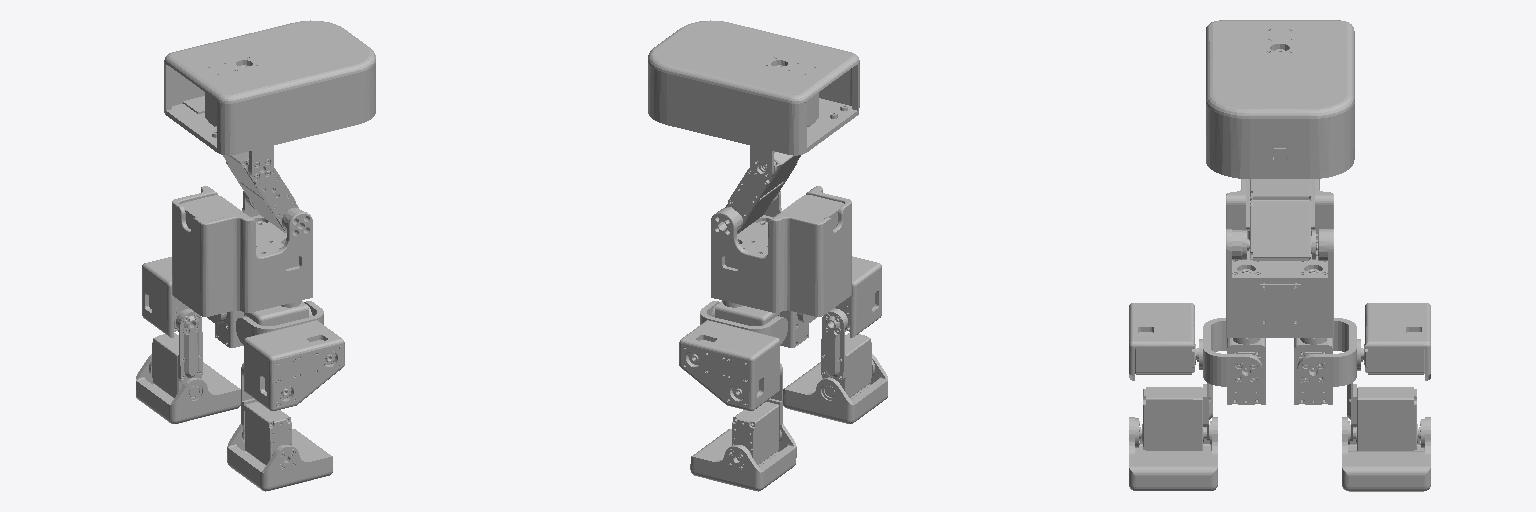
The robot description file, URDF, robot "Microduck-整体.SLDASM":
<?xml version="1.0" encoding="utf-8"?>
<!-- This URDF was automatically created by SolidWorks to URDF Exporter! Originally created by Stephen Brawner (brawner@gmail.com) 
     Commit Version: 1.6.0-4-g7f85cfe  Build Version: 1.6.7995.38578
     For more information, please see http://wiki.ros.org/sw_urdf_exporter -->
<robot
  name="Microduck-整体.SLDASM">

  <mujoco>
    <compiler meshdir="../meshes_simplified/" balabceinertia="ture" discardvisual="false"/>
  </mujoco>

  <link
    name="body_link">
    <inertial>
      <origin
        xyz="0.00732910959509056 -0.000130427771084005 0.0334241457869109"
        rpy="0 0 0" />
      <mass
        value="0.314901605487667" />
      <inertia
        ixx="0.00021781273452738"
        ixy="-7.27002937994262E-07"
        ixz="5.66414229829655E-06"
        iyy="0.000248748994318483"
        iyz="-5.63145662486227E-07"
        izz="0.000223806765988912" />
    </inertial>
    <visual>
      <origin
        xyz="0 0 0"
        rpy="0 0 0" />
      <geometry>
        <mesh
          filename="body_link.STL" />
      </geometry>
      <material
        name="">
        <color
          rgba="0.752941176470588 0.752941176470588 0.752941176470588 1" />
      </material>
    </visual>
    <collision>
      <origin
        xyz="0 0 0"
        rpy="0 0 0" />
      <geometry>
        <mesh
          filename="body_link.STL" />
      </geometry>
    </collision>
  </link>
  <link
    name="neck_Link_01">
    <inertial>
      <origin
        xyz="-0.0149977956510755 -0.0260358125234963 0.0246580464027641"
        rpy="0 0 0" />
      <mass
        value="0.146229057586963" />
      <inertia
        ixx="3.1394462577454E-05"
        ixy="-5.44041617814629E-06"
        ixz="3.97899160121065E-21"
        iyy="2.51123696305632E-05"
        iyz="1.56042532536992E-20"
        izz="2.16128315215325E-05" />
    </inertial>
    <visual>
      <origin
        xyz="0 0 0"
        rpy="0 0 0" />
      <geometry>
        <mesh
          filename="neck_Link_01.STL" />
      </geometry>
      <material
        name="">
        <color
          rgba="0.752941176470588 0.752941176470588 0.752941176470588 1" />
      </material>
    </visual>
    <collision>
      <origin
        xyz="0 0 0"
        rpy="0 0 0" />
      <geometry>
        <mesh
          filename="neck_Link_01.STL" />
      </geometry>
    </collision>
  </link>
  <joint
    name="neck_joint_01"
    type="continuous">
    <origin
      xyz="0.0474780123111315 -0.0255000000000004 0.0639999999999869"
      rpy="-1.5707963267949 0 0" />
    <parent
      link="body_link" />
    <child
      link="neck_Link_01" />
    <axis
      xyz="0 0 1" />
  </joint>
  <link
    name="neck_Link_02">
    <inertial>
      <origin
        xyz="0.00688369448052067 0.0121629155700672 -0.0257122043674353"
        rpy="0 0 0" />
      <mass
        value="0.0116871590091233" />
      <inertia
        ixx="4.6148079746707E-06"
        ixy="-1.9203735909344E-07"
        ixz="-9.18786054915222E-09"
        iyy="4.39306233273658E-06"
        iyz="-1.59138412842083E-08"
        izz="1.06780030162175E-06" />
    </inertial>
    <visual>
      <origin
        xyz="0 0 0"
        rpy="0 0 0" />
      <geometry>
        <mesh
          filename="neck_Link_02.STL" />
      </geometry>
      <material
        name="">
        <color
          rgba="0.752941176470588 0.752941176470588 0.752941176470588 1" />
      </material>
    </visual>
    <collision>
      <origin
        xyz="0 0 0"
        rpy="0 0 0" />
      <geometry>
        <mesh
          filename="neck_Link_02.STL" />
      </geometry>
    </collision>
  </link>
  <joint
    name="neck_joint_02"
    type="continuous">
    <origin
      xyz="-0.0305098890445223 -0.0528449392689606 0"
      rpy="-3.14159265358973 0 -0.5235987755983" />
    <parent
      link="neck_Link_01" />
    <child
      link="neck_Link_02" />
    <axis
      xyz="0 0 -1" />
  </joint>
  <link
    name="neck_Link_03">
    <inertial>
      <origin
        xyz="0.0259952121852963 0.00017585705696721 0.0276164001327309"
        rpy="0 0 0" />
      <mass
        value="0.244320350139549" />
      <inertia
        ixx="0.000282085835026612"
        ixy="-1.67869570748146E-07"
        ixz="1.00525811081606E-05"
        iyy="0.000456772295403287"
        iyz="1.32458984472537E-08"
        izz="0.000671447981205499" />
    </inertial>
    <visual>
      <origin
        xyz="0 0 0"
        rpy="0 0 0" />
      <geometry>
        <mesh
          filename="neck_Link_03.STL" />
      </geometry>
      <material
        name="">
        <color
          rgba="0.752941176470588 0.752941176470588 0.752941176470588 1" />
      </material>
    </visual>
    <collision>
      <origin
        xyz="0 0 0"
        rpy="0 0 0" />
      <geometry>
        <mesh
          filename="neck_Link_03.STL" />
      </geometry>
    </collision>
  </link>
  <joint
    name="neck_joint_03"
    type="continuous">
    <origin
      xyz="0.0140000000000013 0.0242487113059622 -0.0255000000000014"
      rpy="-1.57079632679495 0 -0.523598775598301" />
    <parent
      link="neck_Link_02" />
    <child
      link="neck_Link_03" />
    <axis
      xyz="0 0 1" />
  </joint>
  <link
    name="rleg_link_01">
    <inertial>
      <origin
        xyz="-0.0114240775613978 5.83207559448837E-05 0.023812545433892"
        rpy="0 0 0" />
      <mass
        value="0.0541547562449216" />
      <inertia
        ixx="1.0441340028421E-05"
        ixy="1.8837501456904E-10"
        ixz="4.30633074562675E-07"
        iyy="1.53682355710421E-05"
        iyz="-5.94967043529798E-11"
        izz="1.03769943237818E-05" />
    </inertial>
    <visual>
      <origin
        xyz="0 0 0"
        rpy="0 0 0" />
      <geometry>
        <mesh
          filename="rleg_link_01.STL" />
      </geometry>
      <material
        name="">
        <color
          rgba="0.752941176470588 0.752941176470588 0.752941176470588 1" />
      </material>
    </visual>
    <collision>
      <origin
        xyz="0 0 0"
        rpy="0 0 0" />
      <geometry>
        <mesh
          filename="rleg_link_01.STL" />
      </geometry>
    </collision>
  </link>
  <joint
    name="rleg_joint_01"
    type="continuous">
    <origin
      xyz="0.0447280777211061 -0.0225677614091137 -0.00499999999999984"
      rpy="3.14159265358979 0 0" />
    <parent
      link="body_link" />
    <child
      link="rleg_link_01" />
    <axis
      xyz="0 0 -1" />
  </joint>
  <link
    name="rleg_link_02">
    <inertial>
      <origin
        xyz="0.0141108938252191 -0.000217918216466703 -0.0213001531059313"
        rpy="0 0 0" />
      <mass
        value="0.0147160768790231" />
      <inertia
        ixx="6.81615343207832E-06"
        ixy="3.91287279953076E-22"
        ixz="-3.80049283595342E-08"
        iyy="7.79887544656572E-06"
        iyz="6.45200877791362E-22"
        izz="1.93986151864204E-06" />
    </inertial>
    <visual>
      <origin
        xyz="0 0 0"
        rpy="0 0 0" />
      <geometry>
        <mesh
          filename="rleg_link_02.STL" />
      </geometry>
      <material
        name="">
        <color
          rgba="0.752941176470588 0.752941176470588 0.752941176470588 1" />
      </material>
    </visual>
    <collision>
      <origin
        xyz="0 0 0"
        rpy="0 0 0" />
      <geometry>
        <mesh
          filename="rleg_link_02.STL" />
      </geometry>
    </collision>
  </link>
  <joint
    name="rleg_joint_02"
    type="continuous">
    <origin
      xyz="0.0155 0 0.0167502075018856"
      rpy="1.57079632679486 0 1.5707963267949" />
    <parent
      link="rleg_link_01" />
    <child
      link="rleg_link_02" />
    <axis
      xyz="0 0 -1" />
  </joint>
  <link
    name="rleg_link_03">
    <inertial>
      <origin
        xyz="-0.0259230037924022 -0.00389527144591324 0.0258623268388182"
        rpy="0 0 0" />
      <mass
        value="0.0960609247023977" />
      <inertia
        ixx="2.40313301670692E-05"
        ixy="-2.65156338355956E-06"
        ixz="-1.05088110060624E-06"
        iyy="2.97257786696575E-05"
        iyz="1.15664921811555E-06"
        izz="2.60483247761384E-05" />
    </inertial>
    <visual>
      <origin
        xyz="0 0 0"
        rpy="0 0 0" />
      <geometry>
        <mesh
          filename="rleg_link_03.STL" />
      </geometry>
      <material
        name="">
        <color
          rgba="0.752941176470588 0.752941176470588 0.752941176470588 1" />
      </material>
    </visual>
    <collision>
      <origin
        xyz="0 0 0"
        rpy="0 0 0" />
      <geometry>
        <mesh
          filename="rleg_link_03.STL" />
      </geometry>
    </collision>
  </link>
  <joint
    name="rleg_joint_03"
    type="continuous">
    <origin
      xyz="0.0305 0 -0.024"
      rpy="-1.5708 -1.5623 -1.5708" />
    <parent
      link="rleg_link_02" />
    <child
      link="rleg_link_03" />
    <axis
      xyz="0 0 -1" />
  </joint>
  <link
    name="rleg_link_04">
    <inertial>
      <origin
        xyz="-3.71973548417455E-06 0.0420651975868615 -0.0168539931643489"
        rpy="0 0 0" />
      <mass
        value="0.0423564434333844" />
      <inertia
        ixx="1.00960385386999E-05"
        ixy="2.67342419226412E-10"
        ixz="-4.16945869852409E-11"
        iyy="5.59101835570727E-06"
        iyz="-6.28123220445709E-09"
        izz="6.91050521021012E-06" />
    </inertial>
    <visual>
      <origin
        xyz="0 0 0"
        rpy="0 0 0" />
      <geometry>
        <mesh
          filename="rleg_link_04.STL" />
      </geometry>
      <material
        name="">
        <color
          rgba="0.752941176470588 0.752941176470588 0.752941176470588 1" />
      </material>
    </visual>
    <collision>
      <origin
        xyz="0 0 0"
        rpy="0 0 0" />
      <geometry>
        <mesh
          filename="rleg_link_04.STL" />
      </geometry>
    </collision>
  </link>
  <joint
    name="rleg_joint_04"
    type="continuous">
    <origin
      xyz="-0.039812 -0.019749 -0.0015"
      rpy="-3.1416 0 0" />
    <parent
      link="rleg_link_03" />
    <child
      link="rleg_link_04" />
    <axis
      xyz="0 0 -1" />
  </joint>
  <link
    name="rleg_link_05">
    <inertial>
      <origin
        xyz="0.0118415375769229 -0.0154256532584371 -0.024921504178261"
        rpy="0 0 0" />
      <mass
        value="0.0622742957219456" />
      <inertia
        ixx="2.12254478729179E-05"
        ixy="-1.2310366428664E-07"
        ixz="1.22667797329863E-07"
        iyy="4.07643151674969E-05"
        iyz="-1.59923610108261E-07"
        izz="2.37198952343755E-05" />
    </inertial>
    <visual>
      <origin
        xyz="0 0 0"
        rpy="0 0 0" />
      <geometry>
        <mesh
          filename="rleg_link_05.STL" />
      </geometry>
      <material
        name="">
        <color
          rgba="0.752941176470588 0.752941176470588 0.752941176470588 1" />
      </material>
    </visual>
    <collision>
      <origin
        xyz="0 0 0"
        rpy="0 0 0" />
      <geometry>
        <mesh
          filename="rleg_link_05.STL" />
      </geometry>
    </collision>
  </link>
  <joint
    name="rleg_joint_05"
    type="continuous">
    <origin
      xyz="0 0.0570000044121551 -0.0459973102079287"
      rpy="3.14159265358979 0 2.93495541937787E-05" />
    <parent
      link="rleg_link_04" />
    <child
      link="rleg_link_05" />
    <axis
      xyz="0 0 -1" />
  </joint>
  <link
    name="lleg_link_01">
    <inertial>
      <origin
        xyz="-0.0114283073722073 5.40937233792921E-05 0.0238125458329617"
        rpy="0 0 0" />
      <mass
        value="0.0541547562449216" />
      <inertia
        ixx="1.0441340028421E-05"
        ixy="1.88375014567177E-10"
        ixz="4.30633074562671E-07"
        iyy="1.53682355710421E-05"
        iyz="-5.94967043552705E-11"
        izz="1.03769943237818E-05" />
    </inertial>
    <visual>
      <origin
        xyz="0 0 0"
        rpy="0 0 0" />
      <geometry>
        <mesh
          filename="lleg_link_01.STL" />
      </geometry>
      <material
        name="">
        <color
          rgba="0.752941176470588 0.752941176470588 0.752941176470588 1" />
      </material>
    </visual>
    <collision>
      <origin
        xyz="0 0 0"
        rpy="0 0 0" />
      <geometry>
        <mesh
          filename="lleg_link_01.STL" />
      </geometry>
    </collision>
  </link>
  <joint
    name="lleg_joint_01"
    type="continuous">
    <origin
      xyz="0.0447277738361365 0.022499776057083 -0.005"
      rpy="3.14159265358979 0 0" />
    <parent
      link="body_link" />
    <child
      link="lleg_link_01" />
    <axis
      xyz="0 0 -1" />
  </joint>
  <link
    name="lleg_link_02">
    <inertial>
      <origin
        xyz="0.0141108938252154 0.000217918216467675 -0.0213001531059311"
        rpy="0 0 0" />
      <mass
        value="0.0147160768790231" />
      <inertia
        ixx="6.81615343207832E-06"
        ixy="3.30729140070234E-22"
        ixz="-3.80049283595368E-08"
        iyy="7.79887544656572E-06"
        iyz="1.32514334130995E-21"
        izz="1.93986151864203E-06" />
    </inertial>
    <visual>
      <origin
        xyz="0 0 0"
        rpy="0 0 0" />
      <geometry>
        <mesh
          filename="lleg_link_02.STL" />
      </geometry>
      <material
        name="">
        <color
          rgba="0.752941176470588 0.752941176470588 0.752941176470588 1" />
      </material>
    </visual>
    <collision>
      <origin
        xyz="0 0 0"
        rpy="0 0 0" />
      <geometry>
        <mesh
          filename="lleg_link_02.STL" />
      </geometry>
    </collision>
  </link>
  <joint
    name="lleg_joint_02"
    type="continuous">
    <origin
      xyz="0.0154999999999999 0 0.0167502172306216"
      rpy="-1.57079632679486 0 -1.5707963267949" />
    <parent
      link="lleg_link_01" />
    <child
      link="lleg_link_02" />
    <axis
      xyz="0 0 -1" />
  </joint>
  <link
    name="lleg_link_03">
    <inertial>
      <origin
        xyz="-0.0258793421119631 0.00415471320906954 0.0258665421580586"
        rpy="0 0 0" />
      <mass
        value="0.0960973384094042" />
      <inertia
        ixx="2.40606935828736E-05"
        ixy="2.69125115319012E-06"
        ixz="-1.05443135451405E-06"
        iyy="2.96987142052844E-05"
        iyz="-1.14664512374427E-06"
        izz="2.60479845475255E-05" />
    </inertial>
    <visual>
      <origin
        xyz="0 0 0"
        rpy="0 0 0" />
      <geometry>
        <mesh
          filename="lleg_link_03.STL" />
      </geometry>
      <material
        name="">
        <color
          rgba="0.752941176470588 0.752941176470588 0.752941176470588 1" />
      </material>
    </visual>
    <collision>
      <origin
        xyz="0 0 0"
        rpy="0 0 0" />
      <geometry>
        <mesh
          filename="lleg_link_03.STL" />
      </geometry>
    </collision>
  </link>
  <joint
    name="lleg_joint_03"
    type="continuous">
    <origin
      xyz="0.0305 0 -0.024"
      rpy="-1.5708 -1.5708 -1.5708" />
    <parent
      link="lleg_link_02" />
    <child
      link="lleg_link_03" />
    <axis
      xyz="0 0 -1" />
  </joint>
  <link
    name="lleg_link_04">
    <inertial>
      <origin
        xyz="7.81938608435812E-07 -0.042065197216223 -0.0168541342322532"
        rpy="0 0 0" />
      <mass
        value="0.0423564434333727" />
      <inertia
        ixx="1.00960385540528E-05"
        ixy="-4.79963258031457E-11"
        ixz="4.21342517463099E-11"
        iyy="5.59101834035341E-06"
        iyz="6.28122927038043E-09"
        izz="6.91050521021013E-06" />
    </inertial>
    <visual>
      <origin
        xyz="0 0 0"
        rpy="0 0 0" />
      <geometry>
        <mesh
          filename="lleg_link_04.STL" />
      </geometry>
      <material
        name="">
        <color
          rgba="0.752941176470588 0.752941176470588 0.752941176470588 1" />
      </material>
    </visual>
    <collision>
      <origin
        xyz="0 0 0"
        rpy="0 0 0" />
      <geometry>
        <mesh
          filename="lleg_link_04.STL" />
      </geometry>
    </collision>
  </link>
  <joint
    name="lleg_joint_04"
    type="continuous">
    <origin
      xyz="-0.039577 0.020151 -0.0015"
      rpy="-3.1416 0 -0.0084574" />
    <parent
      link="lleg_link_03" />
    <child
      link="lleg_link_04" />
    <axis
      xyz="0 0 -1" />
  </joint>
  <link
    name="lleg_link_05">
    <inertial>
      <origin
        xyz="0.011841620518445 0.0154255703157836 -0.0249215955157575"
        rpy="0 0 0" />
      <mass
        value="0.062274295721746" />
      <inertia
        ixx="2.12254497662808E-05"
        ixy="1.23103664459523E-07"
        ixz="1.2282105483274E-07"
        iyy="4.07643170611524E-05"
        iyz="1.59864171494428E-07"
        izz="2.37198952345857E-05" />
    </inertial>
    <visual>
      <origin
        xyz="0 0 0"
        rpy="0 0 0" />
      <geometry>
        <mesh
          filename="lleg_link_05.STL" />
      </geometry>
      <material
        name="">
        <color
          rgba="0.752941176470588 0.752941176470588 0.752941176470588 1" />
      </material>
    </visual>
    <collision>
      <origin
        xyz="0 0 0"
        rpy="0 0 0" />
      <geometry>
        <mesh
          filename="lleg_link_05.STL" />
      </geometry>
    </collision>
  </link>
  <joint
    name="lleg_joint_05"
    type="continuous">
    <origin
      xyz="0 -0.0569999944730204 -0.046"
      rpy="3.14159265358979 0 0" />
    <parent
      link="lleg_link_04" />
    <child
      link="lleg_link_05" />
    <axis
      xyz="0 0 -1" />
  </joint>
</robot>

--- What the picture shows (computed from the rendered views, not written in the file) ---
The picture shows the robot from 3 angles, left to right: view 1: azimuth 30°, elevation 25°; view 2: azimuth 150°, elevation 25°; view 3: azimuth 270°, elevation 25°; orthographic projection.
Robot: Microduck-整体.SLDASM — 14 links, 13 joints (13 continuous); root link body_link; default pose: every joint at zero.
Links seen in each view (by area): view 1: neck_Link_03, body_link, rleg_link_03, rleg_link_05, lleg_link_05, lleg_link_04, rleg_link_04, lleg_link_03, neck_Link_01, rleg_link_01, rleg_link_02, neck_Link_02 (+1 smaller); view 2: neck_Link_03, body_link, lleg_link_03, lleg_link_05, rleg_link_05, rleg_link_04, lleg_link_04, neck_Link_01, rleg_link_03, lleg_link_01, lleg_link_02, neck_Link_02 (+1 smaller); view 3: neck_Link_03, body_link, neck_Link_01, lleg_link_03, rleg_link_03, rleg_link_04, lleg_link_04, lleg_link_05, rleg_link_05, rleg_link_02, lleg_link_02, lleg_link_01 (+1 smaller).
Link boxes in pixels (x1,y1,x2,y2): neck_Link_03: (164,20,375,155); body_link: (172,186,312,316); rleg_link_03: (244,320,344,410); rleg_link_05: (227,424,332,491); lleg_link_05: (136,354,240,423); lleg_link_04: (149,310,202,397); rleg_link_04: (241,363,291,464); lleg_link_03: (142,257,191,337); neck_Link_01: (223,152,298,232); rleg_link_01: (244,301,312,325); rleg_link_02: (236,301,323,344); neck_Link_02: (249,146,273,180); neck_Link_03: (648,20,859,155); body_link: (711,186,851,316); lleg_link_03: (679,320,779,410); lleg_link_05: (690,424,796,491); rleg_link_05: (783,354,887,423); rleg_link_04: (821,310,874,397); lleg_link_04: (732,363,782,464); neck_Link_01: (725,152,800,233); rleg_link_03: (832,256,881,337); lleg_link_01: (711,301,779,325); lleg_link_02: (700,301,787,344); neck_Link_02: (750,146,774,180); neck_Link_03: (1206,20,1354,178); body_link: (1226,179,1333,342); neck_Link_01: (1242,179,1316,260); lleg_link_03: (1357,303,1430,380); rleg_link_03: (1129,303,1202,380); rleg_link_04: (1135,383,1212,450); lleg_link_04: (1347,383,1424,450); lleg_link_05: (1342,417,1430,491); rleg_link_05: (1129,417,1217,490); rleg_link_02: (1203,318,1262,386); lleg_link_02: (1297,318,1356,386); lleg_link_01: (1294,338,1332,404).
Size in the robot's own frame: 0.1548 by 0.2031 by 0.3199 metres.
14 mesh visuals loaded from 14 distinct referenced files (14 binary STL).
